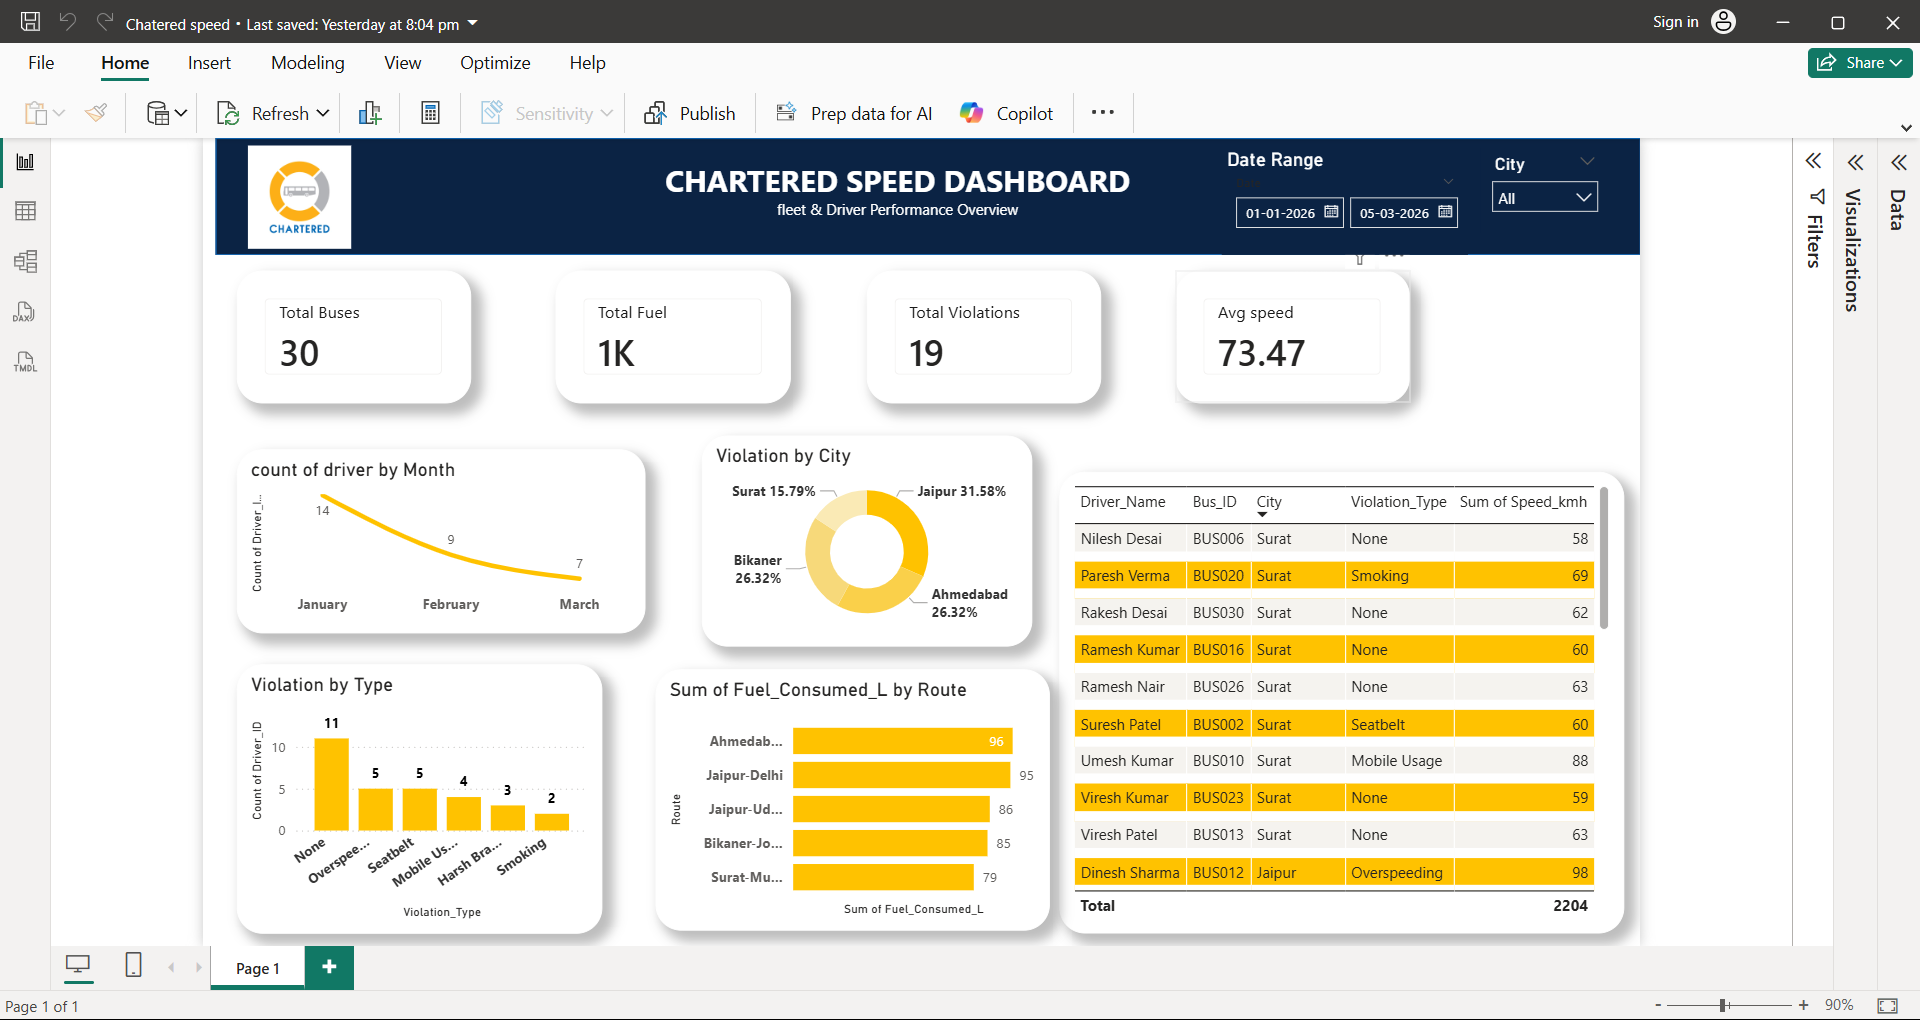

Layout of this report page (visuals, bound fields, positions):
{"tool":"powerbi","page":{"name":"Page 1","canvas":[1280,720],"ordinal":0},"visuals":[{"type":"cardVisual","fields":{"Data":["Fleet_Data.Total Buses"]},"box":[30.7,117.7,208.6,130.4],"z":0},{"type":"cardVisual","fields":{"Data":["Fleet_Data.Total Fuel"]},"box":[264,117.7,209.9,130.4],"z":1000},{"type":"cardVisual","fields":{"Data":["Fleet_Data.Total Violations"]},"box":[513.8,117.7,208.6,130.4],"z":2000},{"type":"shape","box":[11,0,1269.3,104.3],"z":3000},{"type":"textbox","box":[355.9,14.5,524.8,78.4],"z":4000},{"type":"cardVisual","fields":{"Data":["Fleet_Data.Avg speed"]},"box":[759.4,117.7,208.6,130.4],"z":5000},{"type":"donutChart","title":"Violation by Type","fields":{"Category":["Fleet_Data.Violation_Type"],"Y":["CountNonNull(Fleet_Data.Driver_ID)"]},"box":[455.6,288.2,284,164.7],"z":6000},{"type":"clusteredColumnChart","title":"Violation by City","fields":{"Category":["Fleet_Data.City"],"Y":["CountNonNull(Fleet_Data.Driver_ID)"]},"box":[23.3,487.1,378.7,233.3],"z":7000},{"type":"lineChart","fields":{"Category":["Fleet_Data.Month"],"Y":["CountNonNull(Fleet_Data.Driver_ID)"]},"box":[37,277.2,365,164.7],"z":8000},{"type":"tableEx","fields":{"Values":["Fleet_Data.Driver_Name","Fleet_Data.Bus_ID","Fleet_Data.City","Fleet_Data.Violation_Type","Sum(Fleet_Data.Speed_kmh)"]},"box":[782.2,288.2,498.1,411.7],"z":9000},{"type":"barChart","fields":{"Category":["Fleet_Data.Route"],"Y":["Sum(Fleet_Data.Fuel_Consumed_L)"]},"box":[456,487,284,233],"z":10000},{"type":"image","box":[0,6.9,171.5,91.9],"z":11000},{"type":"slicer","title":"Date Range","fields":{"Values":["Fleet_Data.Date"]},"box":[907.2,8.4,219.6,95.3],"z":12000},{"type":"slicer","fields":{"Values":["Fleet_Data.City"]},"box":[1137.7,8.4,129.1,90.5],"z":13000}]}

Visuals, with their boxes on the page's 1280x720 design canvas (x1, y1, x2, y2). These are canvas units, not pixel positions in the 1920x1020 screenshot, which may show the page scaled, cropped or inside an application window:
cardVisual - Fleet_Data.Total Buses: (x1=31, y1=118, x2=239, y2=248)
cardVisual - Fleet_Data.Total Fuel: (x1=264, y1=118, x2=474, y2=248)
cardVisual - Fleet_Data.Total Violations: (x1=514, y1=118, x2=722, y2=248)
shape: (x1=11, y1=0, x2=1280, y2=104)
textbox: (x1=356, y1=14, x2=881, y2=93)
cardVisual - Fleet_Data.Avg speed: (x1=759, y1=118, x2=968, y2=248)
"Violation by Type" donutChart: (x1=456, y1=288, x2=740, y2=453)
"Violation by City" clusteredColumnChart: (x1=23, y1=487, x2=402, y2=720)
lineChart - Fleet_Data.Month x CountNonNull(Fleet_Data.Driver_ID): (x1=37, y1=277, x2=402, y2=442)
tableEx - Fleet_Data.Driver_Name x Fleet_Data.Bus_ID: (x1=782, y1=288, x2=1280, y2=700)
barChart - Fleet_Data.Route x Sum(Fleet_Data.Fuel_Consumed_L): (x1=456, y1=487, x2=740, y2=720)
image: (x1=0, y1=7, x2=172, y2=99)
"Date Range" slicer: (x1=907, y1=8, x2=1127, y2=104)
slicer - Fleet_Data.City: (x1=1138, y1=8, x2=1267, y2=99)
